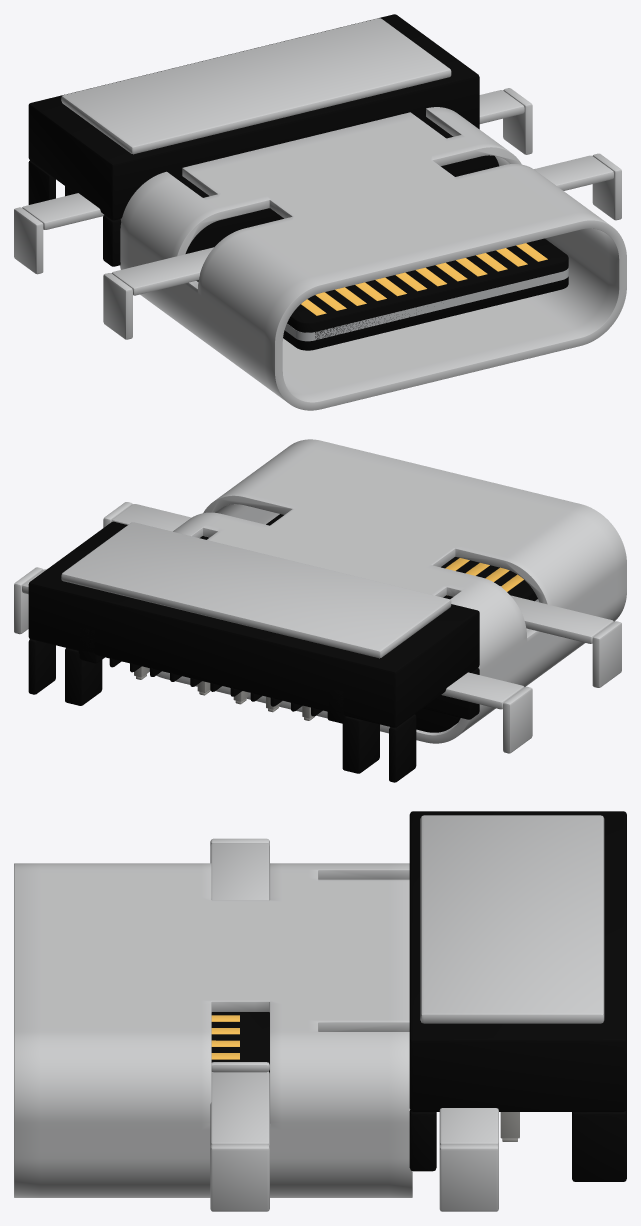
Rendered from J1_GT-USB-7005A.obj.
The picture shows the model from 3 angles, top to bottom: view 1: azimuth 30°, elevation 25°; view 2: azimuth 150°, elevation 25°; view 3: azimuth 270°, elevation 25°; orthographic projection. The views are drawn at different scales.
Parts seen in each view (by area): view 1: J1_SHELL_stainless_Ni, J1_GROUNDPLATE_stainless_Ni, J1_HOUSING_LCP_black, J1_LEGS_stainless_Ni_x4, J1_TONGUE_LCP, J1_CONTACTS_rowA_Au, J1_TERMINALBLOCK_LCP, J1_MIDPLATE_stainless; view 2: J1_SHELL_stainless_Ni, J1_HOUSING_LCP_black, J1_GROUNDPLATE_stainless_Ni, J1_LEGS_stainless_Ni_x4, J1_TONGUE_LCP, J1_TERMINALBLOCK_LCP, J1_PINS_throughhole_x12, J1_CONTACTS_rowA_Au; view 3: J1_SHELL_stainless_Ni, J1_GROUNDPLATE_stainless_Ni, J1_HOUSING_LCP_black, J1_LEGS_stainless_Ni_x4, J1_TONGUE_LCP, J1_CONTACTS_rowA_Au, J1_PINS_throughhole_x12.
Boxes of the visible parts, x1,y1,x2,y2 form: J1_SHELL_stainless_Ni: [120, 107, 626, 410]; J1_GROUNDPLATE_stainless_Ni: [61, 18, 451, 154]; J1_HOUSING_LCP_black: [28, 14, 479, 266]; J1_LEGS_stainless_Ni_x4: [14, 88, 621, 339]; J1_TONGUE_LCP: [206, 238, 568, 350]; J1_CONTACTS_rowA_Au: [301, 243, 547, 315]; J1_TERMINALBLOCK_LCP: [177, 118, 498, 281]; J1_MIDPLATE_stainless: [284, 266, 568, 341]; J1_SHELL_stainless_Ni: [149, 439, 626, 743]; J1_HOUSING_LCP_black: [28, 521, 479, 782]; J1_GROUNDPLATE_stainless_Ni: [61, 522, 451, 658]; J1_LEGS_stainless_Ni_x4: [14, 502, 621, 753]; J1_TONGUE_LCP: [266, 514, 537, 601]; J1_TERMINALBLOCK_LCP: [200, 536, 460, 732]; J1_PINS_throughhole_x12: [134, 666, 380, 728]; J1_CONTACTS_rowA_Au: [445, 558, 523, 591]; J1_SHELL_stainless_Ni: [14, 863, 412, 1197]; J1_GROUNDPLATE_stainless_Ni: [420, 815, 604, 1023]; J1_HOUSING_LCP_black: [409, 811, 626, 1181]; J1_LEGS_stainless_Ni_x4: [210, 838, 498, 1211]; J1_TONGUE_LCP: [211, 1012, 269, 1072]; J1_CONTACTS_rowA_Au: [211, 1015, 239, 1059]; J1_PINS_throughhole_x12: [500, 1112, 519, 1141].
Bounding box in the file's own units: 12.35 × 3.64 × 10.3.
